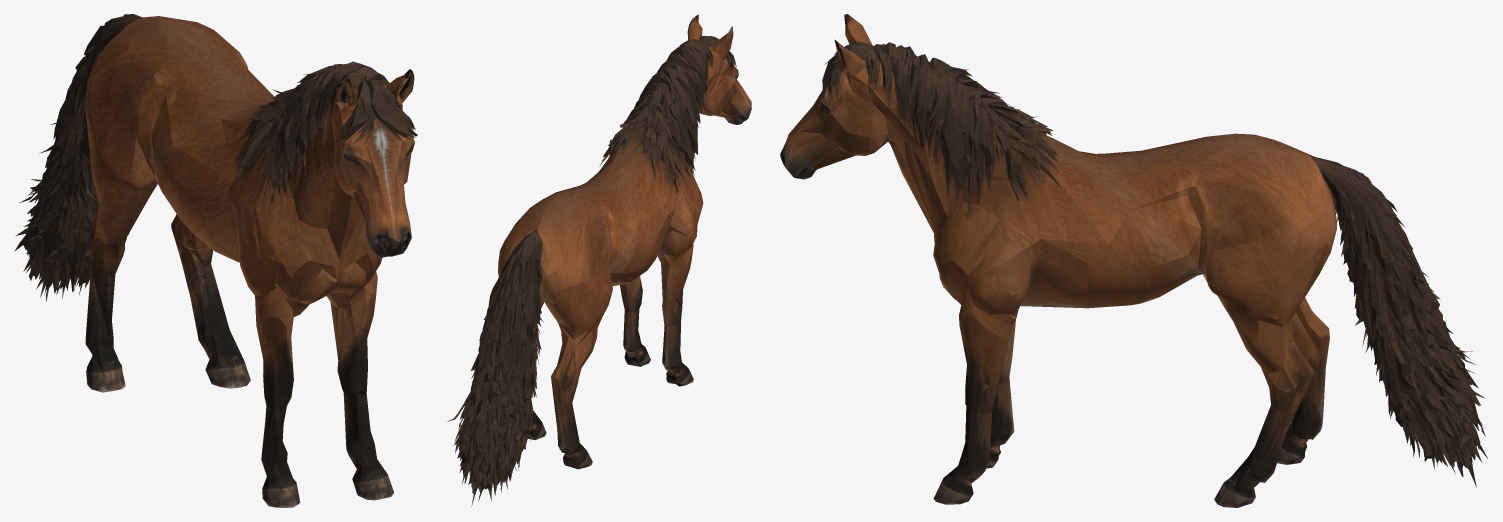
The model's file is horse.glb.
3 renders of one model, left to right at view 1: azimuth 30°, elevation 25°; view 2: azimuth 150°, elevation 25°; view 3: azimuth 270°, elevation 25°, orthographic. The views are drawn at different scales.
Parts seen in each view (by area): view 1: output_unwrapped; view 2: output_unwrapped; view 3: output_unwrapped.
Boxes of the visible parts, box(x1,y1,x2,y2) form: output_unwrapped: box(14, 14, 417, 507); output_unwrapped: box(447, 14, 751, 506); output_unwrapped: box(780, 14, 1487, 507).
Size of the model in its own units: 0.5038 by 1.65 by 2.35.
Materials: 1 (1 with a texture image).
